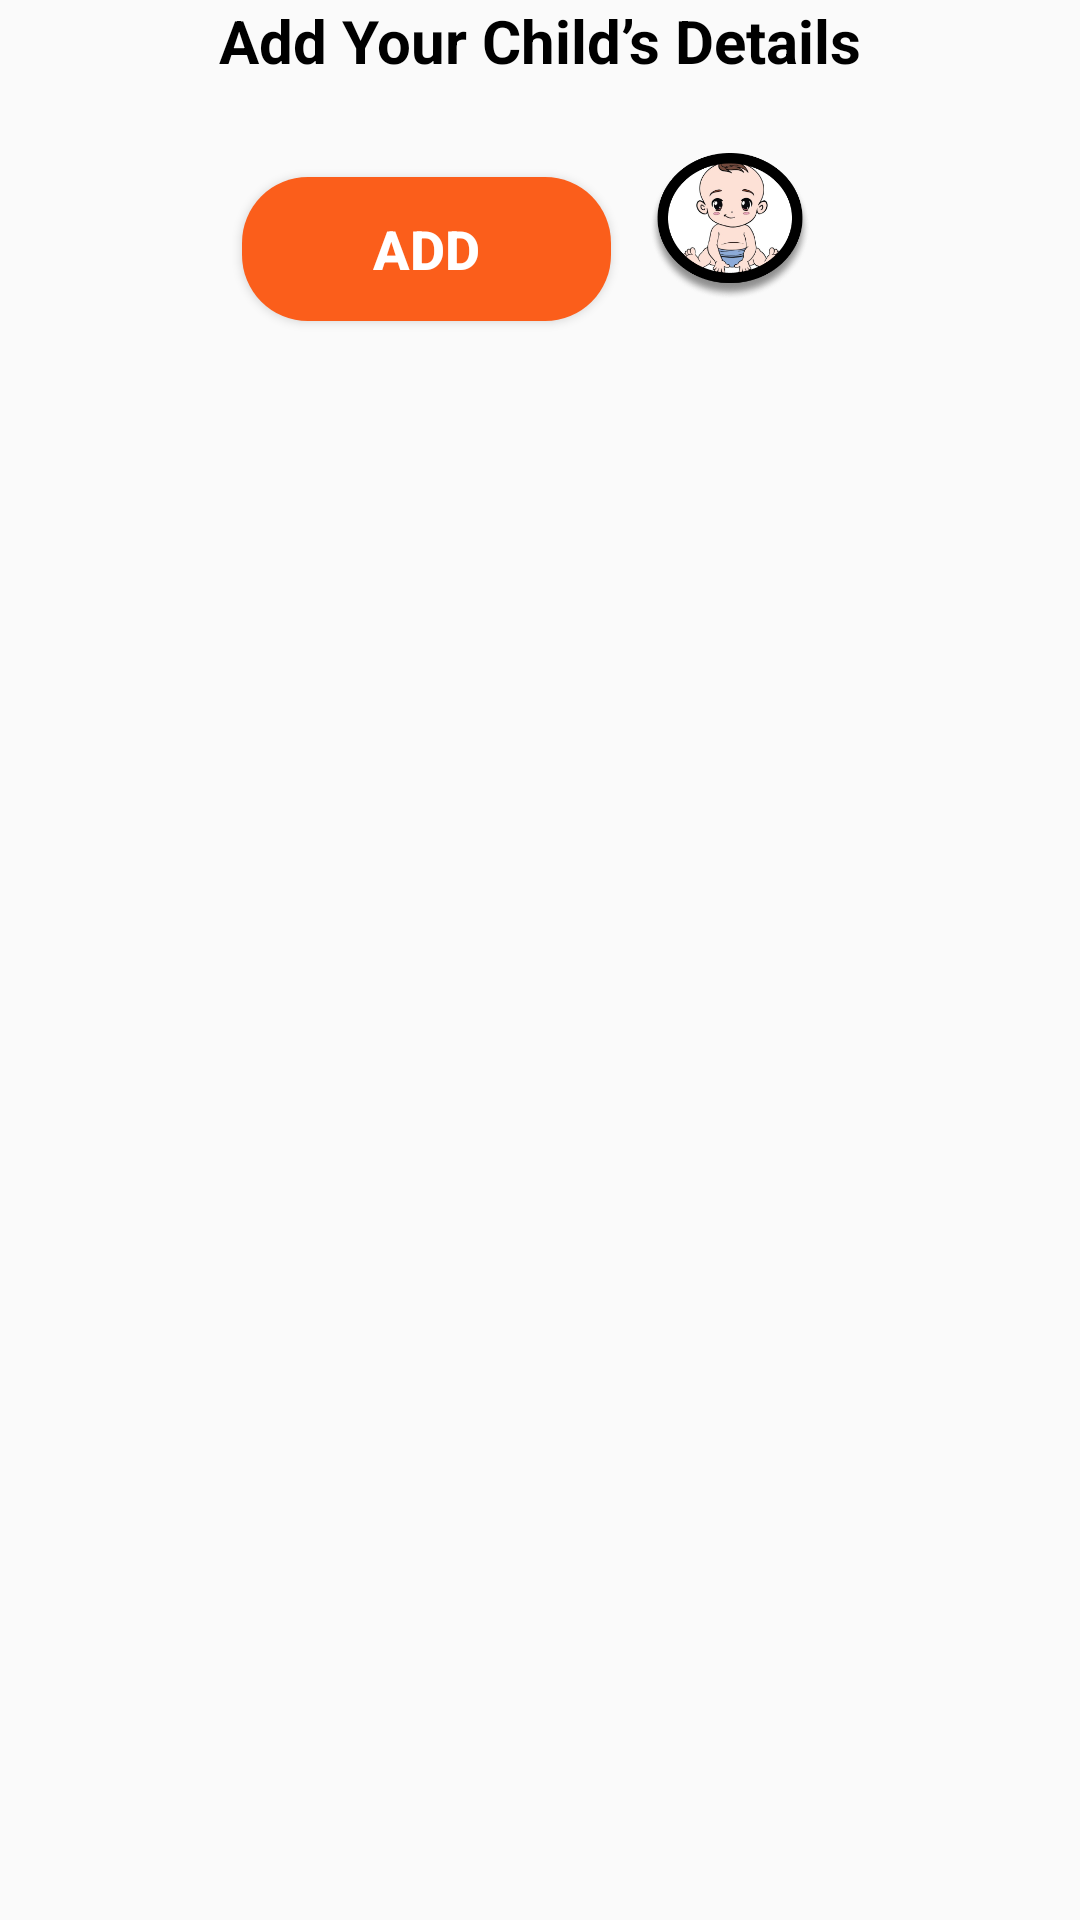

Point at icon controls on the screen. Image size 1080x1920, points as [x,y].
baby nav: [730,224]
